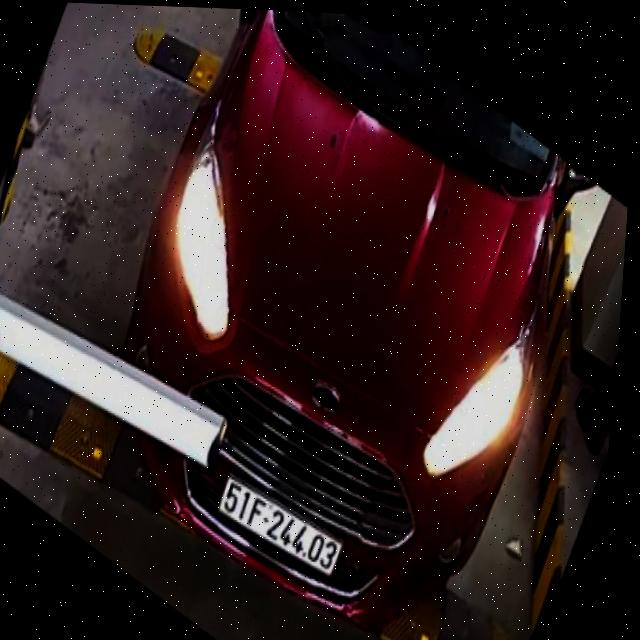car: (97, 5, 592, 640)
plate: (205, 467, 354, 583)
